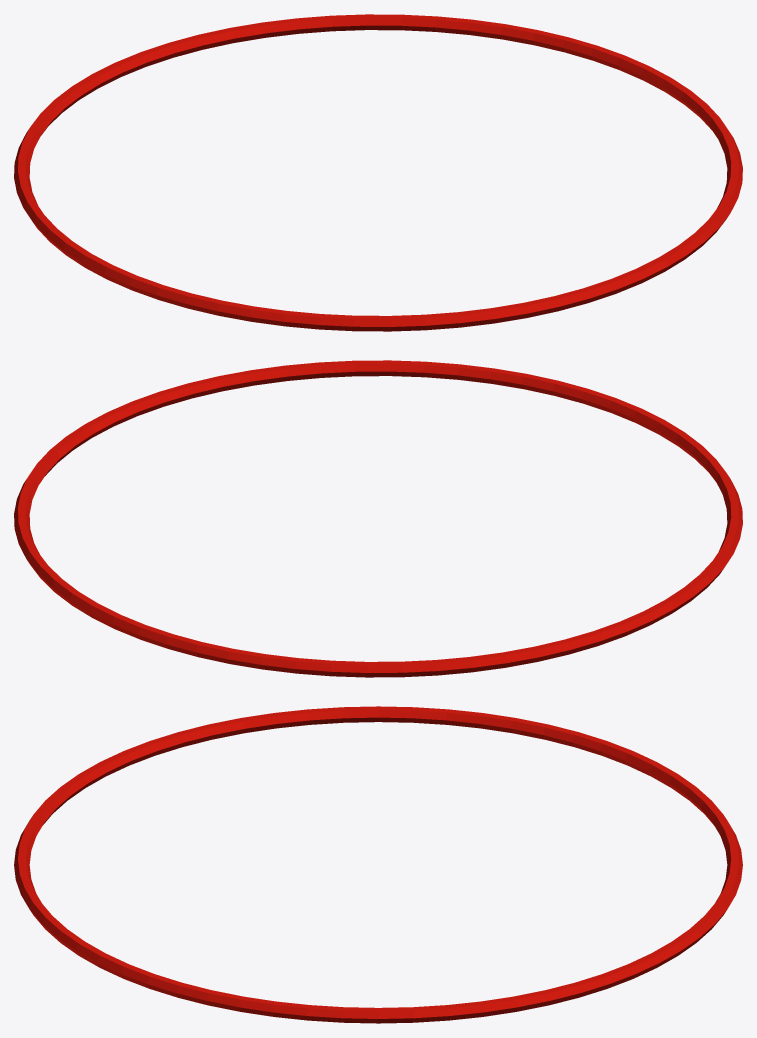
Rendered from danger.obj.
3 renders of one model, top to bottom at view 1: azimuth 30°, elevation 25°; view 2: azimuth 150°, elevation 25°; view 3: azimuth 270°, elevation 25°, orthographic.
Visible parts, largest first — view 1: Torus.001; view 2: Torus.001; view 3: Torus.001.
Part boxes in pixels (x1=…): Torus.001: x1=14, y1=14, x2=742, y2=331; Torus.001: x1=14, y1=360, x2=742, y2=677; Torus.001: x1=14, y1=706, x2=742, y2=1023.
Bounding box in the file's own units: 2.04 × 0.0381 × 2.04.
